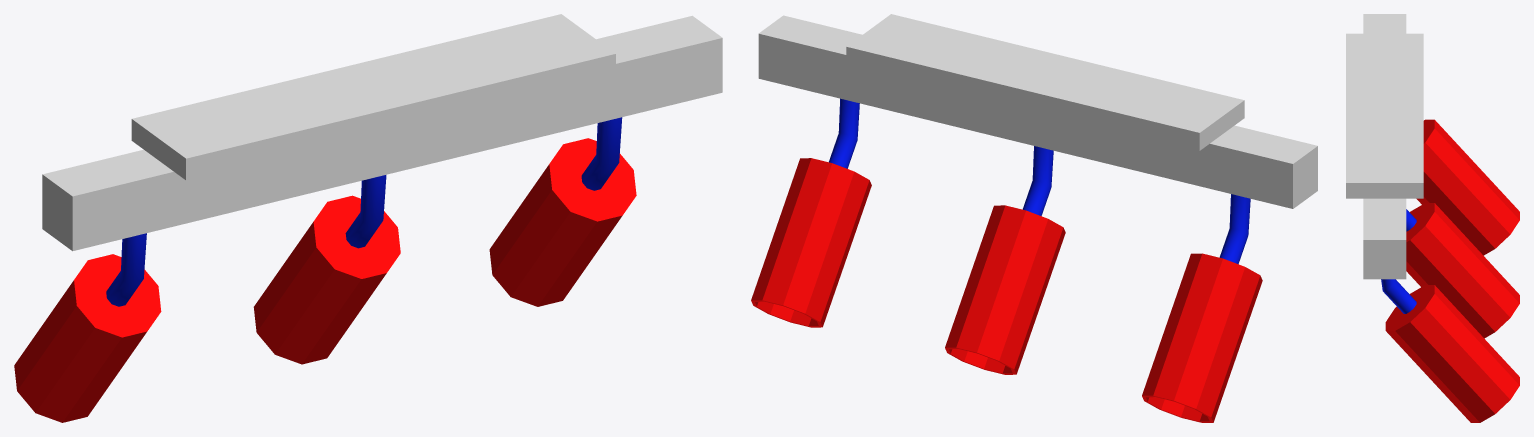
The model's file is Track Lighting 3.fbx.
3 views of the same model, side by side, from view 1: azimuth 30°, elevation 25°; view 2: azimuth 150°, elevation 25°; view 3: azimuth 270°, elevation 25° (orthographic). The views are drawn at different scales.
Visible parts, largest first — view 1: Lighting Track 010, Lights 010; view 2: Lighting Track 010, Lights 010; view 3: Lights 010, Lighting Track 010.
Part boxes in pixels (left/top/right/bottom): Lighting Track 010: left=42, top=14, right=722, bottom=251; Lights 010: left=14, top=117, right=636, bottom=422; Lighting Track 010: left=758, top=14, right=1317, bottom=208; Lights 010: left=751, top=98, right=1262, bottom=422; Lights 010: left=1381, top=119, right=1519, bottom=422; Lighting Track 010: left=1346, top=14, right=1423, bottom=279.
Size of the model in its own units: 0.3104 by 0.1458 by 0.1008.
